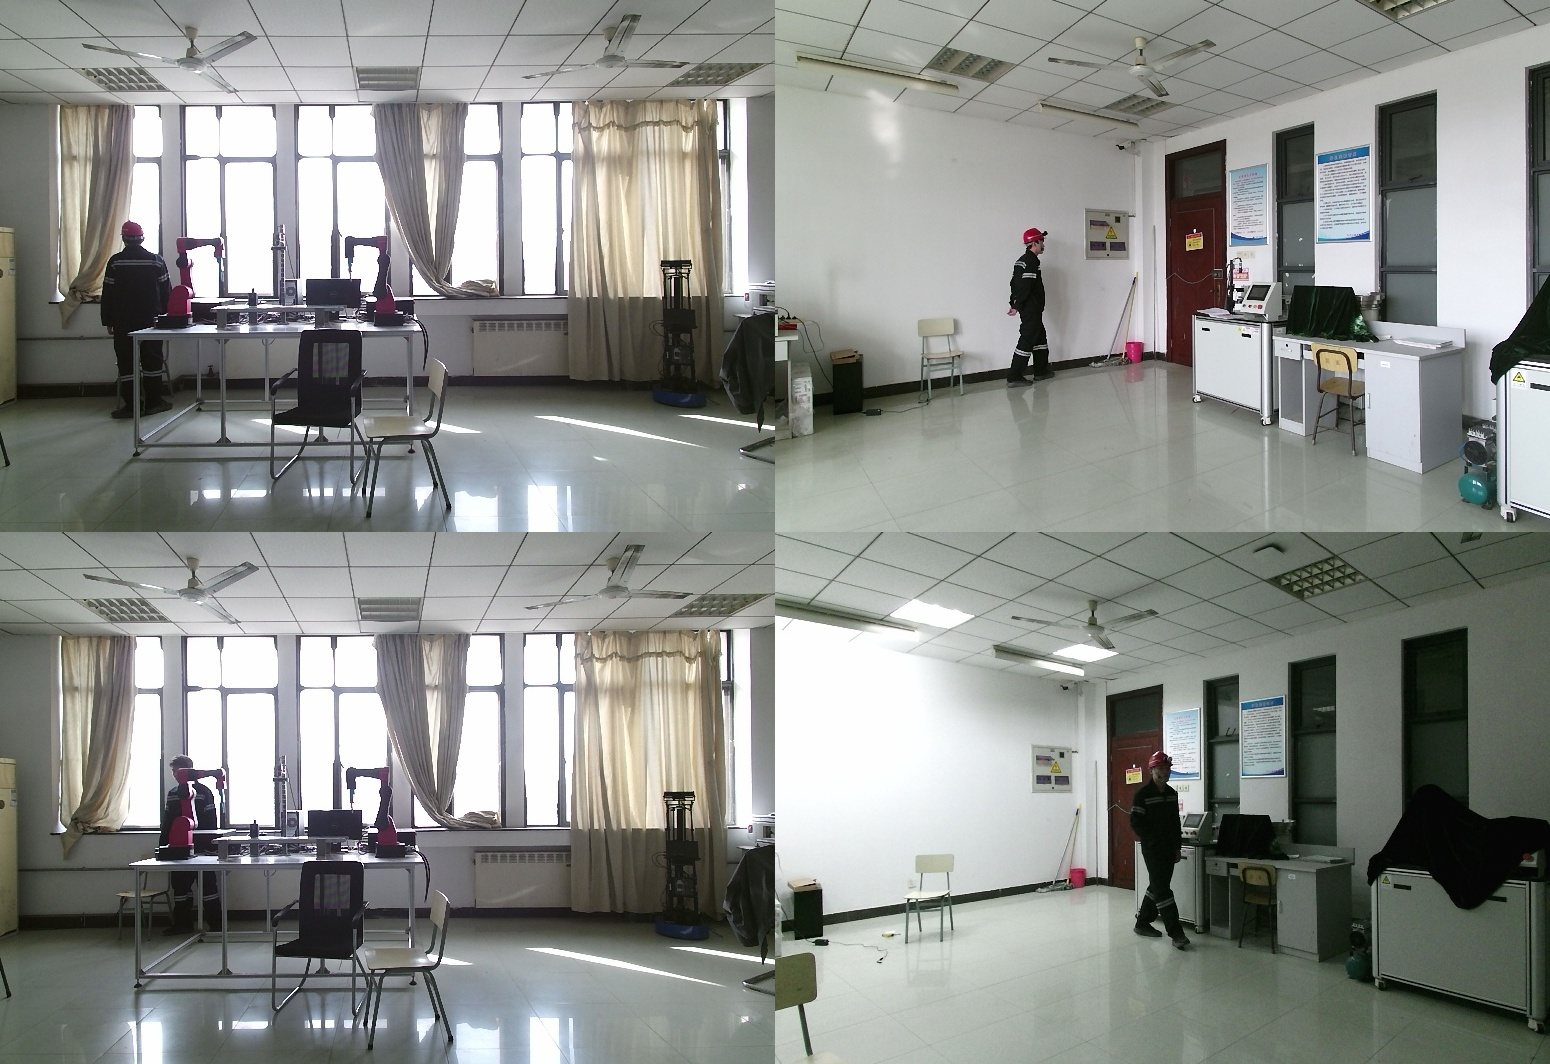person: (92, 222, 177, 424), (1121, 751, 1189, 948), (157, 755, 226, 943), (1007, 232, 1054, 391)
